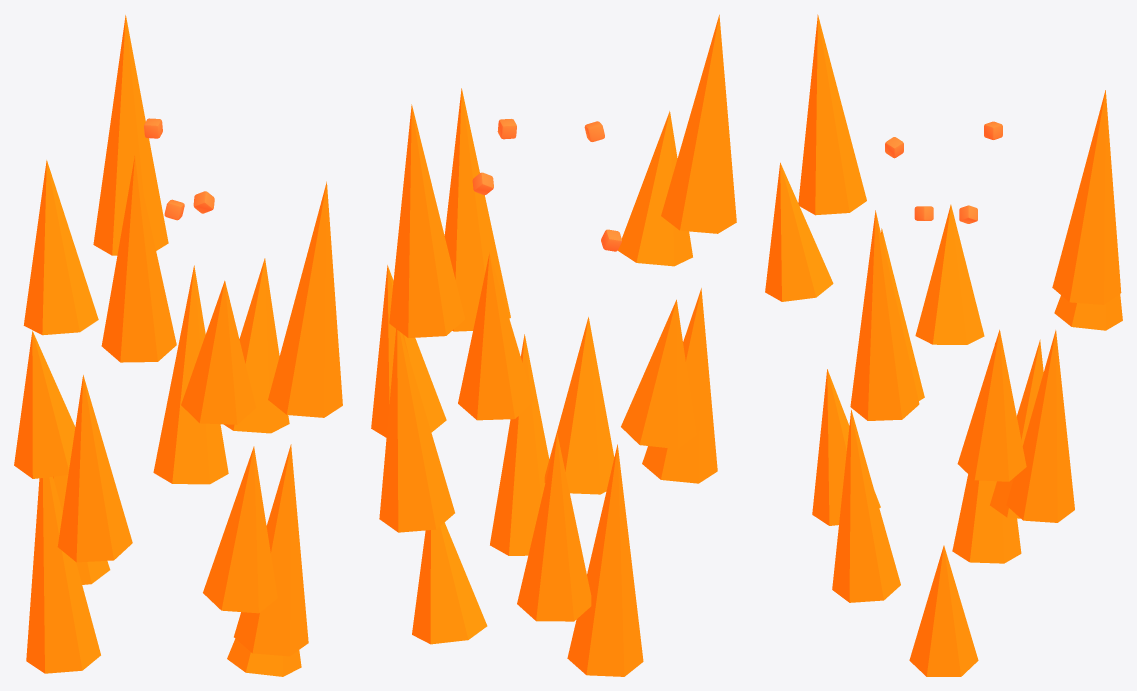
The model's file is efekt_podpalenie.glb.
3 renders of one model, left to right at view 1: azimuth 30°, elevation 25°; view 2: azimuth 150°, elevation 25°; view 3: azimuth 270°, elevation 25°, orthographic. The views are drawn at different scales.
Parts seen in each view (by area): view 1: efekt_podpalenie; view 2: efekt_podpalenie; view 3: efekt_podpalenie.
Boxes of the visible parts, x1,y1,x2,y2 form: efekt_podpalenie: (14, 15, 342, 676); efekt_podpalenie: (371, 14, 736, 676); efekt_podpalenie: (765, 14, 1122, 676).
Bounding box in the file's own units: 0.6006 × 1.25 × 0.7241.
